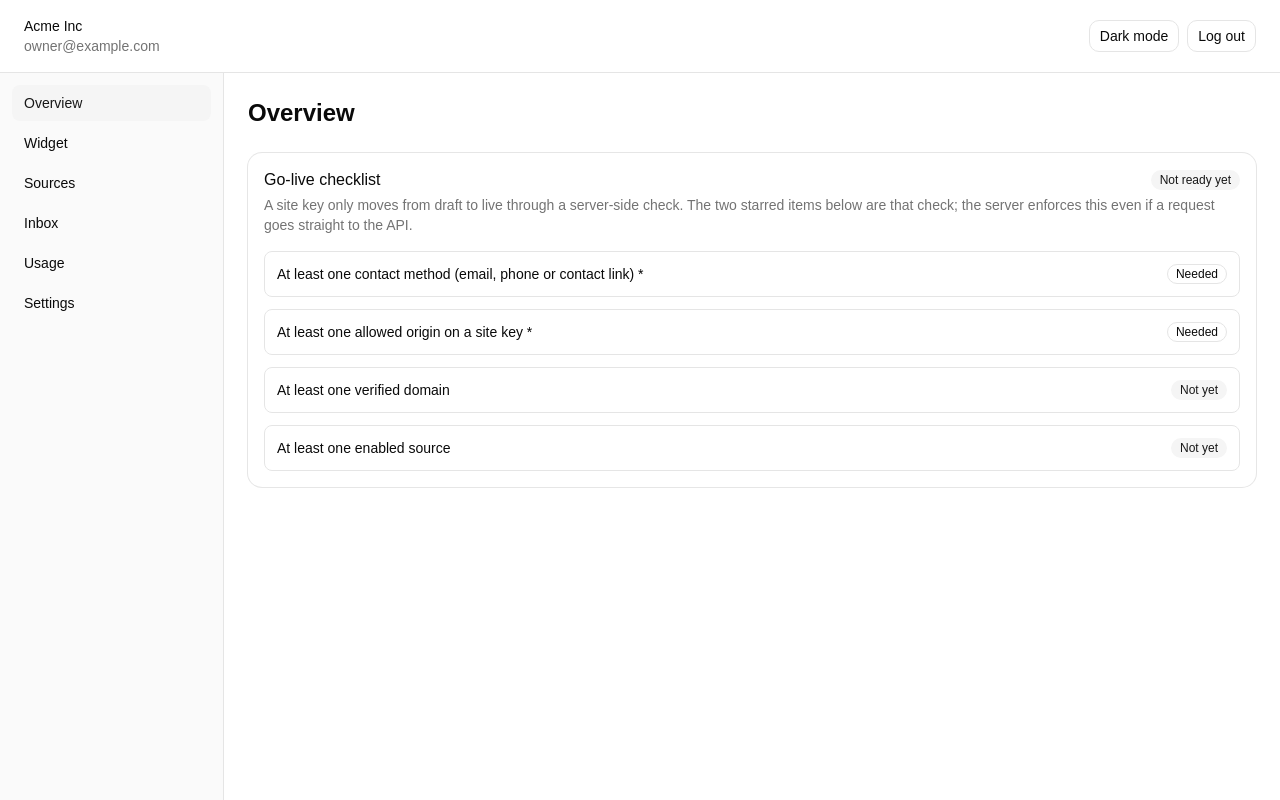
DashboardShell › toggles the dark theme and persists the choice
Click the button "Dark mode".
click(1134, 36)  # box 1089,20 -> 1179,52
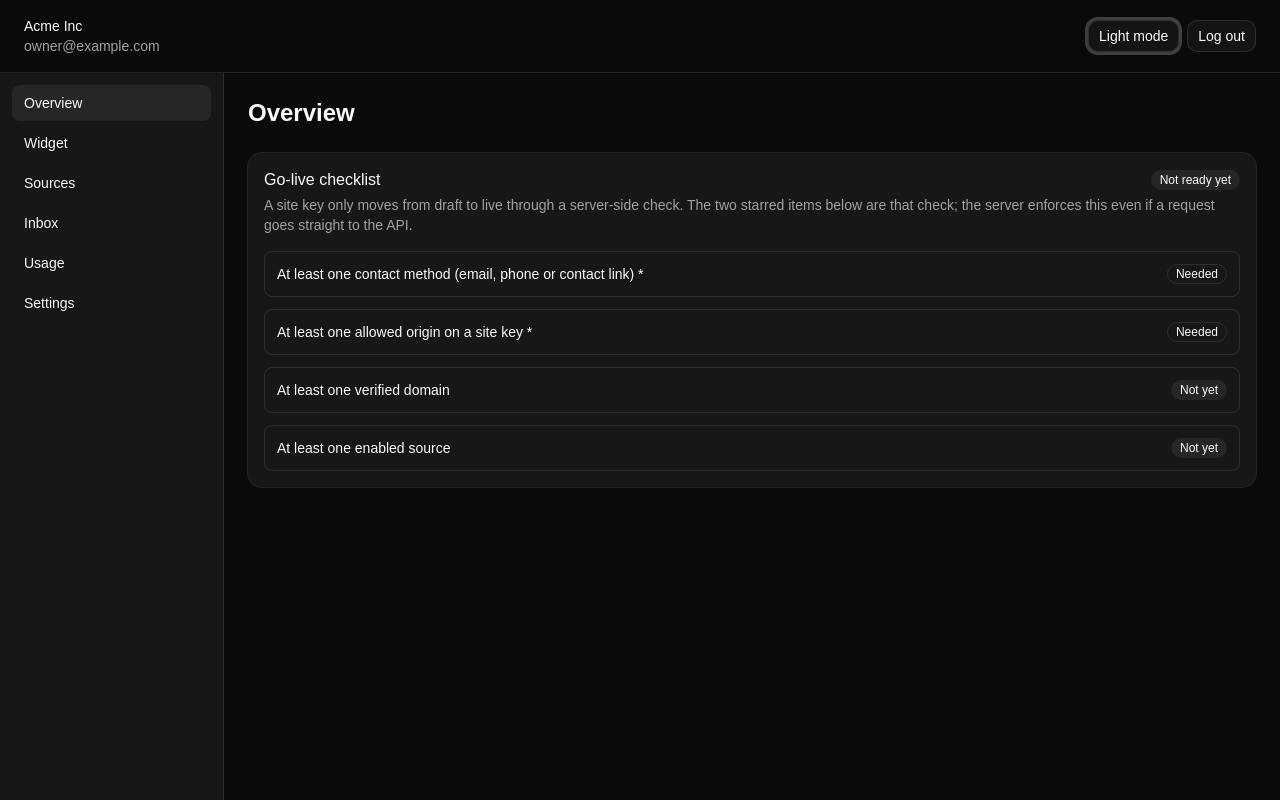
Expected: the button "Light mode" is shown, 1088,20 -> 1179,52
